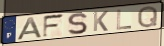A: (16, 16, 44, 41)
F: (42, 13, 66, 39)
K: (92, 10, 110, 33)
L: (115, 9, 133, 31)
Q: (137, 5, 159, 29)
S: (66, 12, 89, 36)
